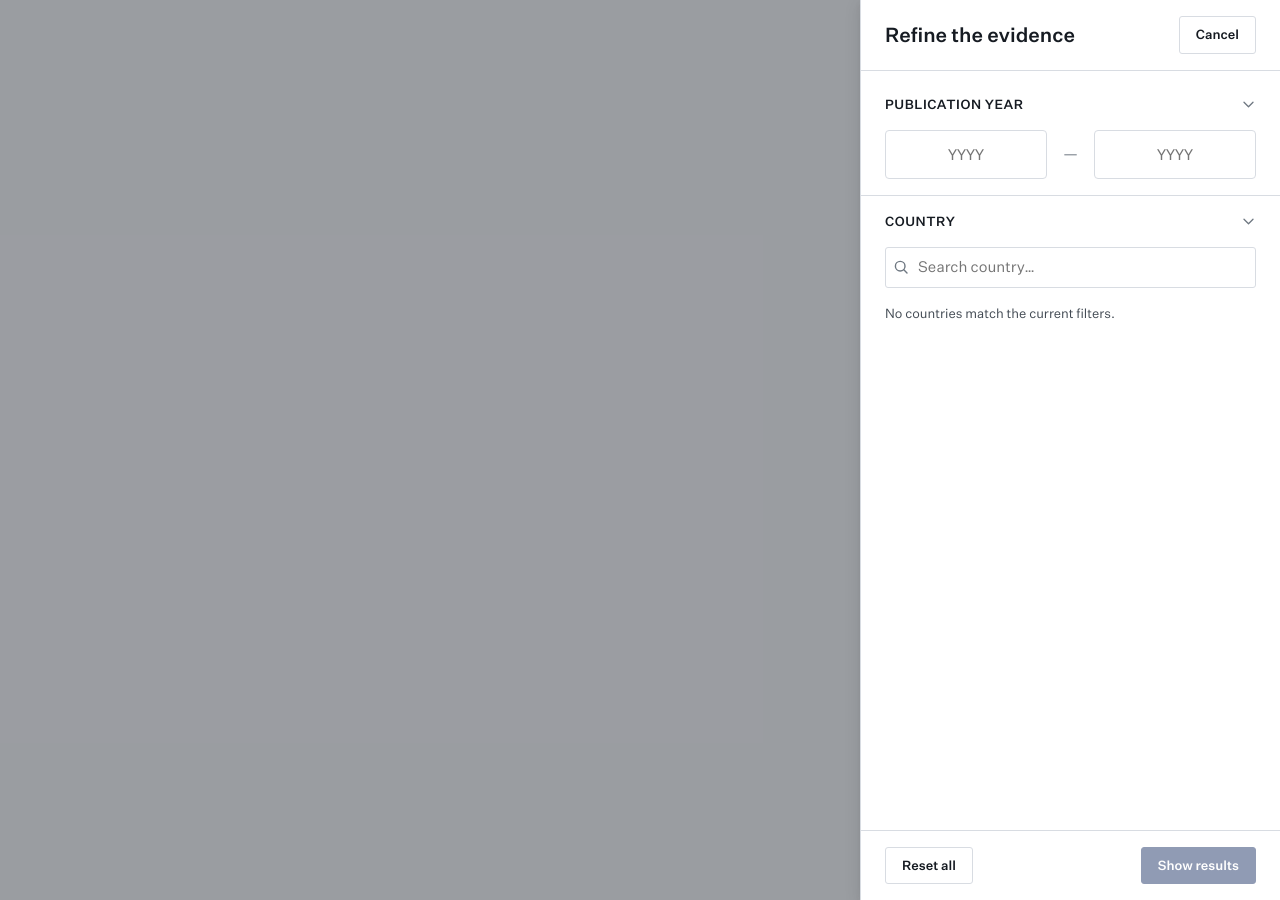
FilterDrawer › year range integration › start > end shows inline error and disables Show results
The width and height of the screenshot is (1280, 900).
In the field named "Start year": x=966, y=154 top-left (885, 130), bottom-right (1047, 178), type "2020"
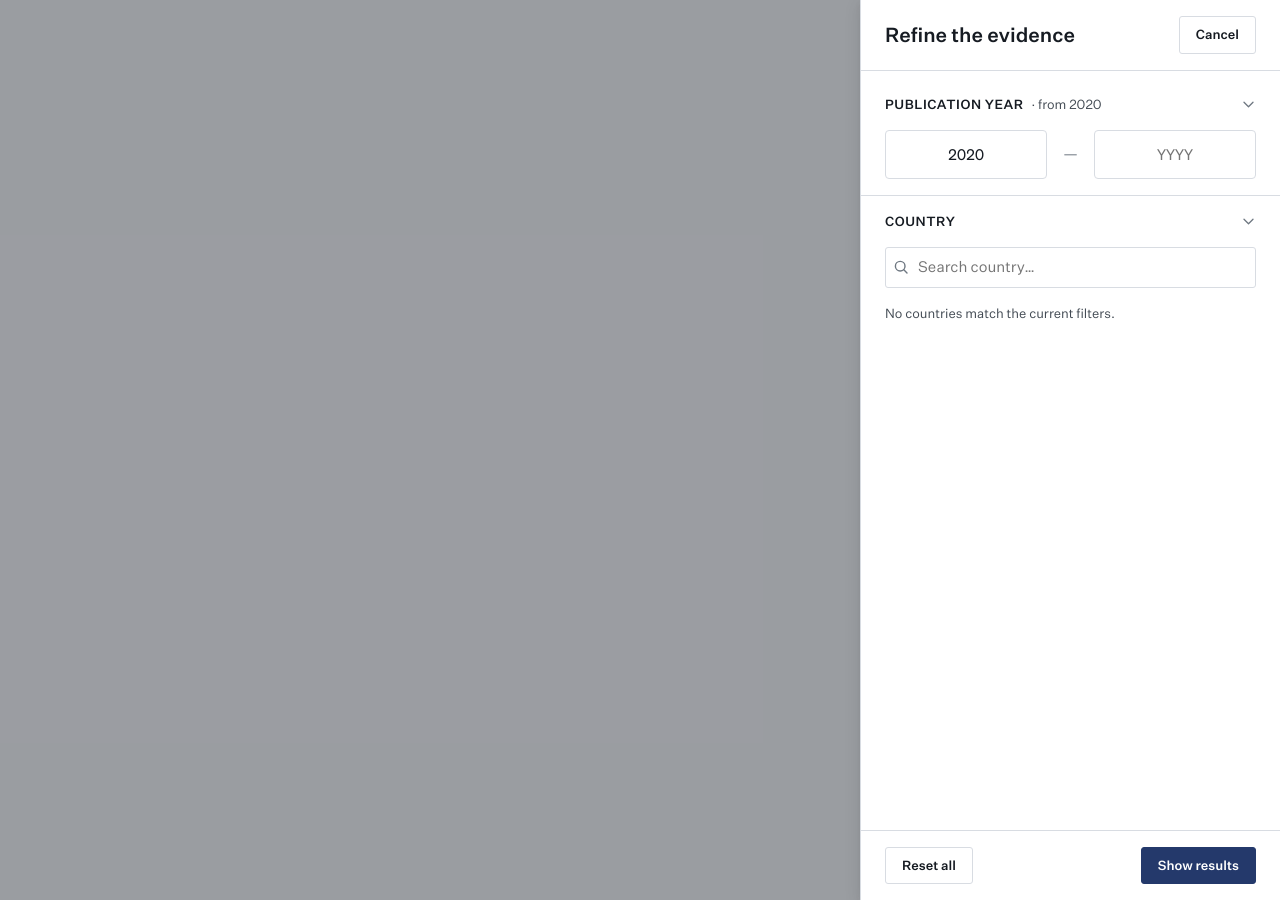
In the field named "End year": x=1175, y=154 top-left (1094, 130), bottom-right (1256, 178), type "2010"
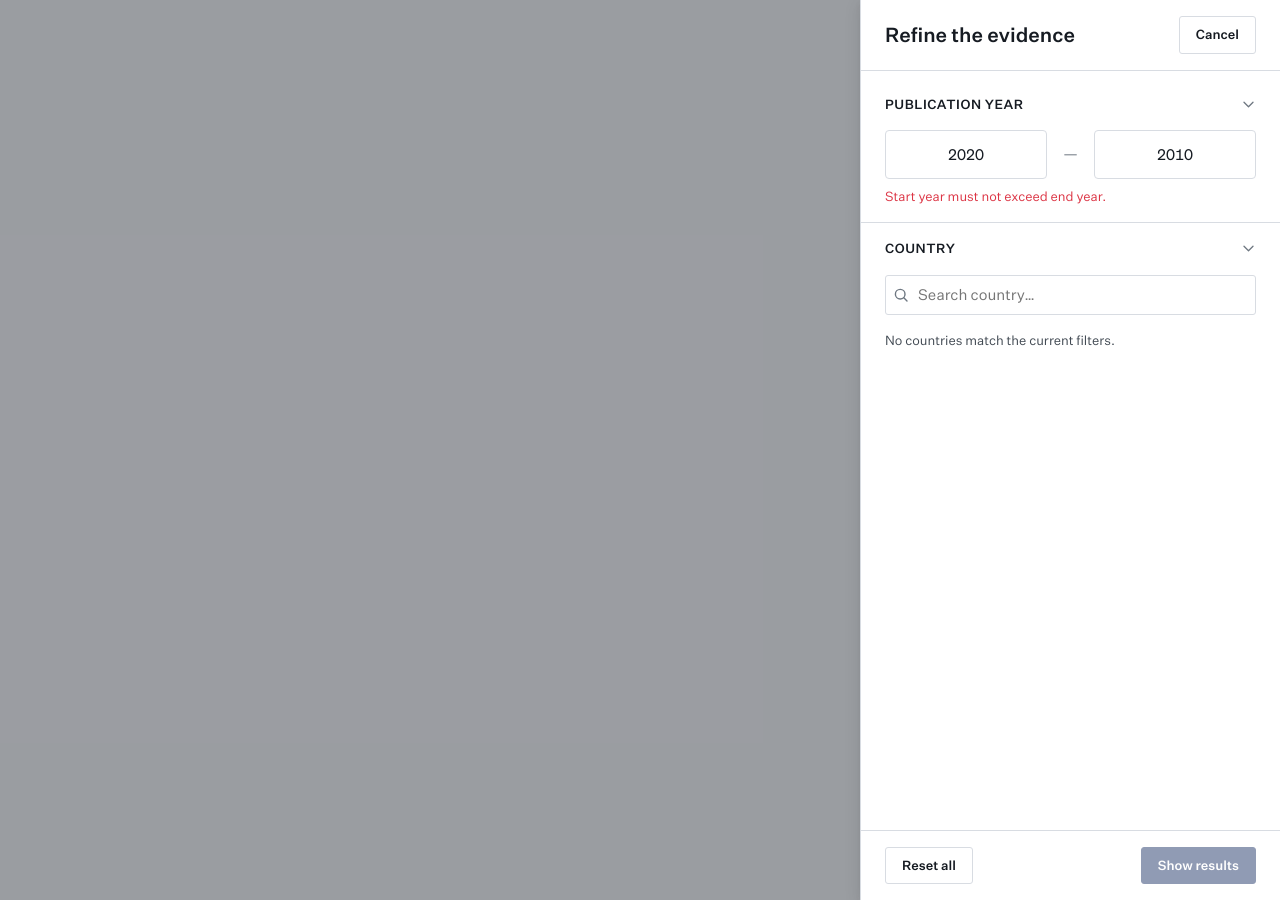
Result: the message shows "Start year must not exceed end year" at top-left (885, 188), bottom-right (1106, 202)
Result: the button "Show results" is disabled at top-left (1141, 846), bottom-right (1256, 884)
